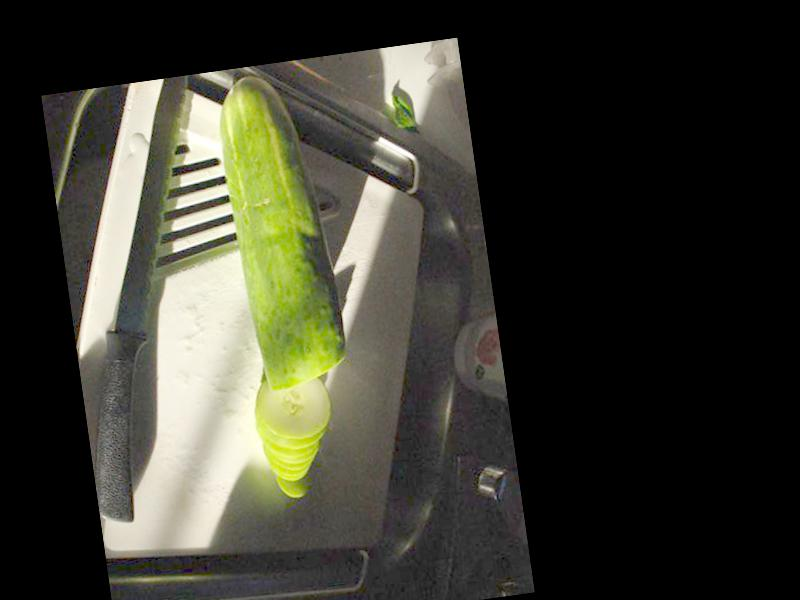Cucumber: (212, 68, 350, 395)
